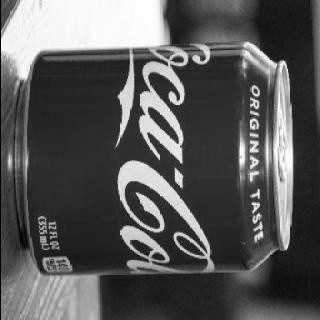alumunium_can: (13, 40, 295, 272)
